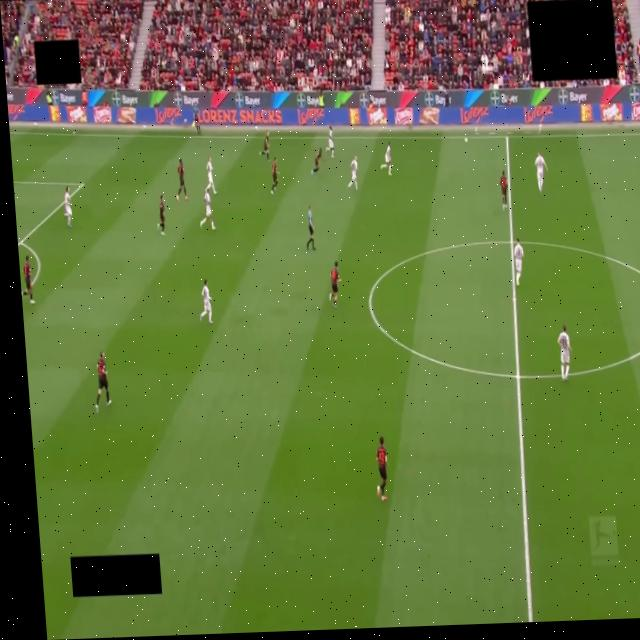ball: (465, 137, 468, 142)
player: (95, 350, 111, 412), (376, 436, 387, 501), (558, 325, 571, 380), (200, 189, 216, 231), (22, 256, 34, 304), (200, 279, 212, 323), (329, 261, 340, 308), (176, 159, 187, 201), (535, 154, 547, 192), (514, 239, 523, 286), (206, 157, 216, 195), (348, 156, 358, 190), (381, 143, 391, 175), (65, 186, 72, 228), (158, 195, 165, 235), (311, 149, 322, 174), (500, 171, 507, 210), (260, 131, 269, 161), (271, 158, 278, 194), (326, 126, 334, 157)
referee: (307, 205, 315, 250)
